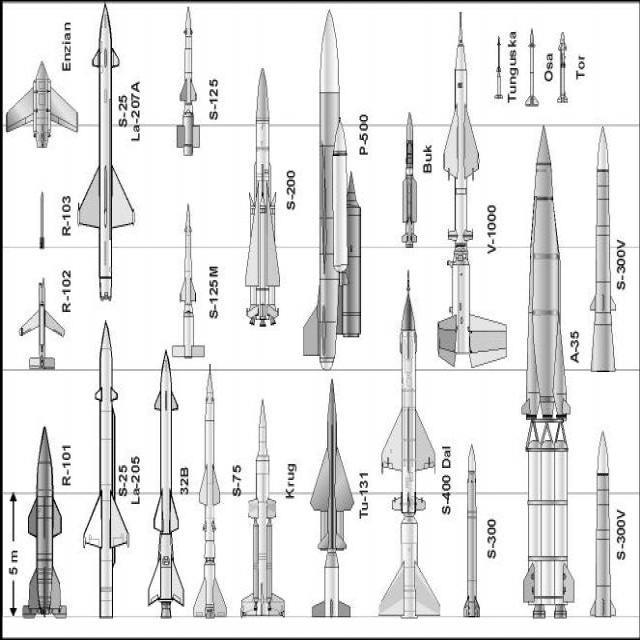missile: (510, 125, 579, 427), (75, 306, 137, 618), (581, 119, 622, 392), (579, 442, 624, 623), (455, 438, 485, 628)
